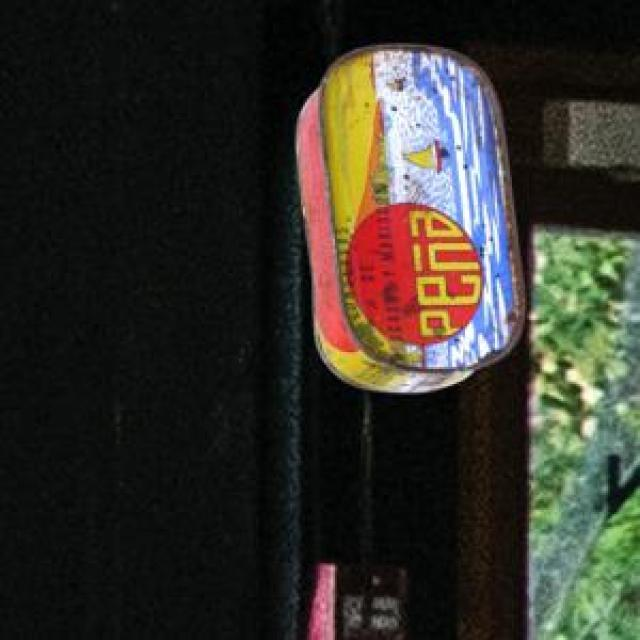Can: (293, 42, 522, 389)
